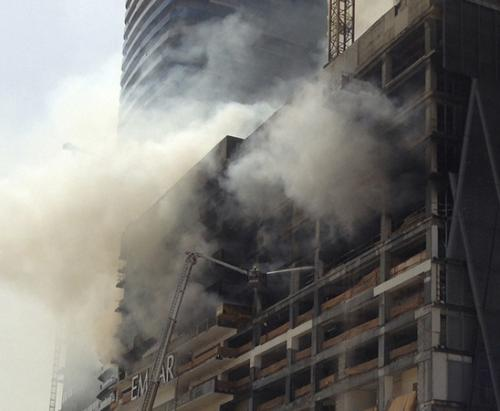smoke: (8, 118, 380, 292)
